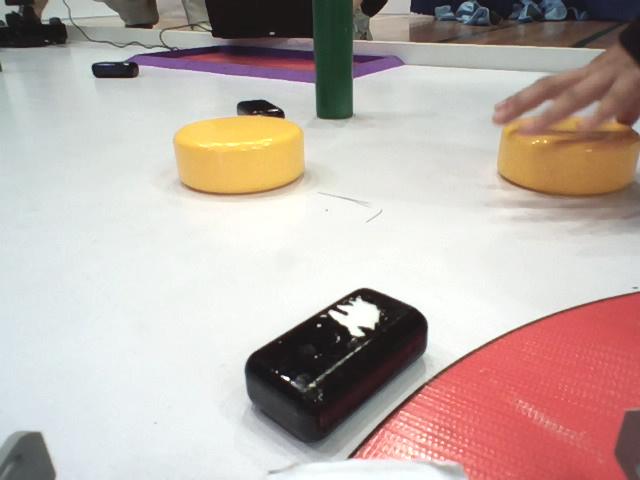black: (238, 283, 460, 443), (226, 93, 286, 124), (84, 59, 139, 82)
kuang: (112, 41, 417, 89)
yellow: (487, 107, 640, 204), (166, 114, 317, 206)
zhuzi: (308, 1, 362, 124)
